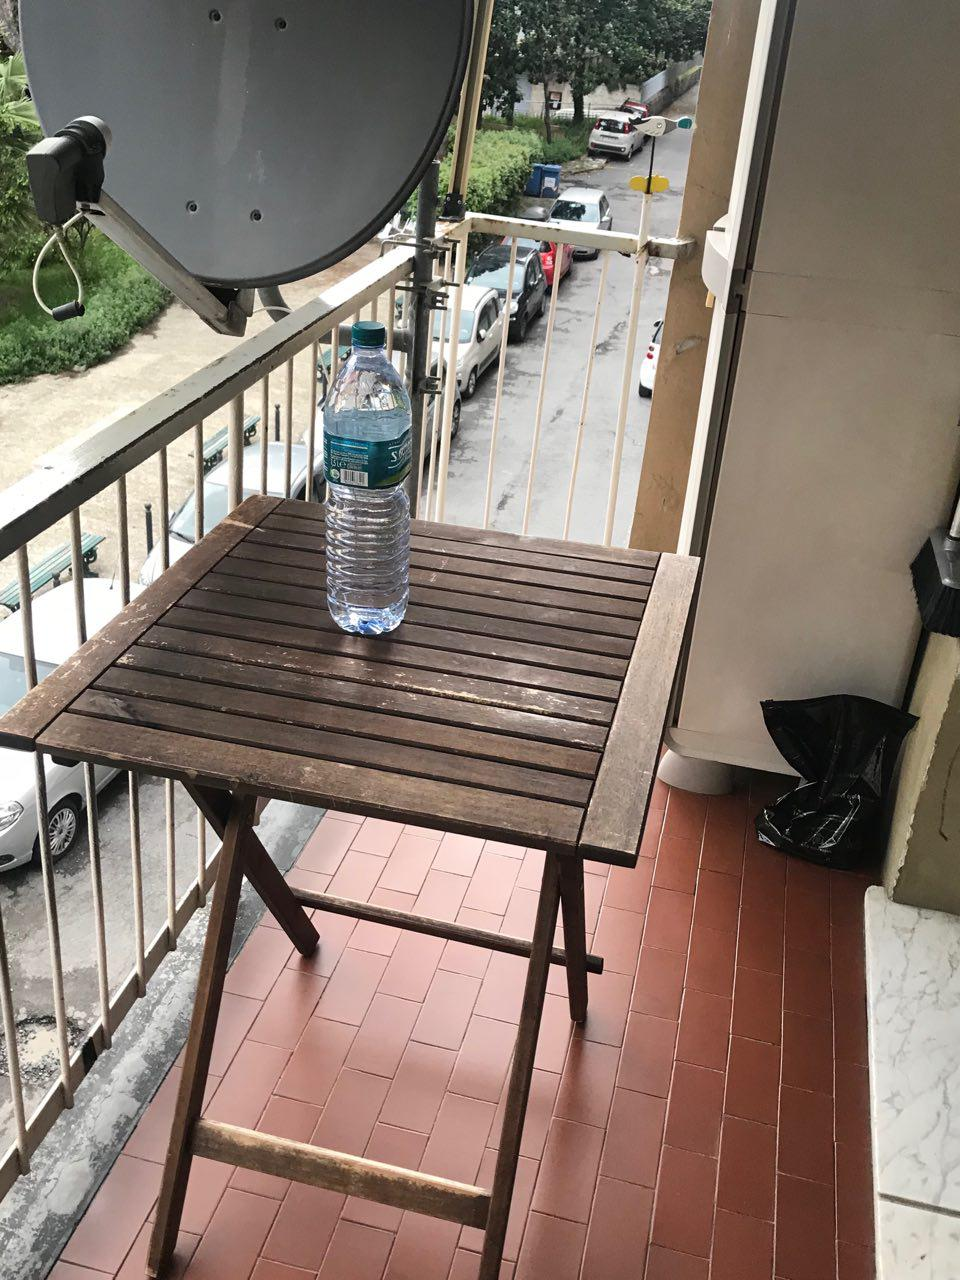san_bernardo: (323, 322, 413, 635)
